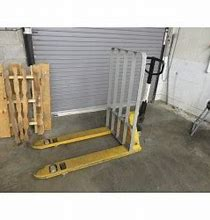Pallet Jack: (30, 25, 172, 181)
